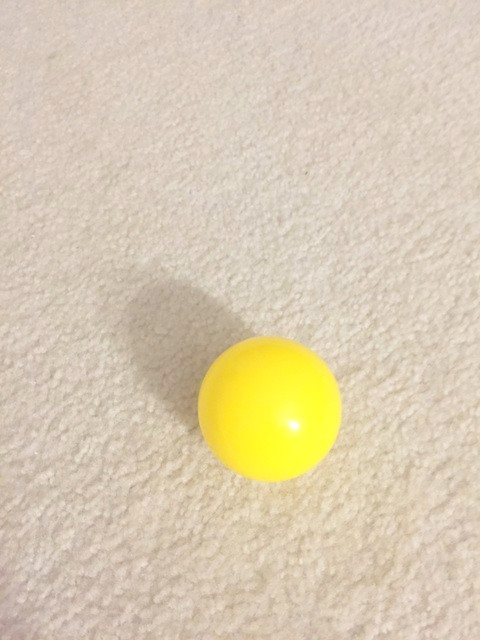ball: (194, 336, 342, 484)
